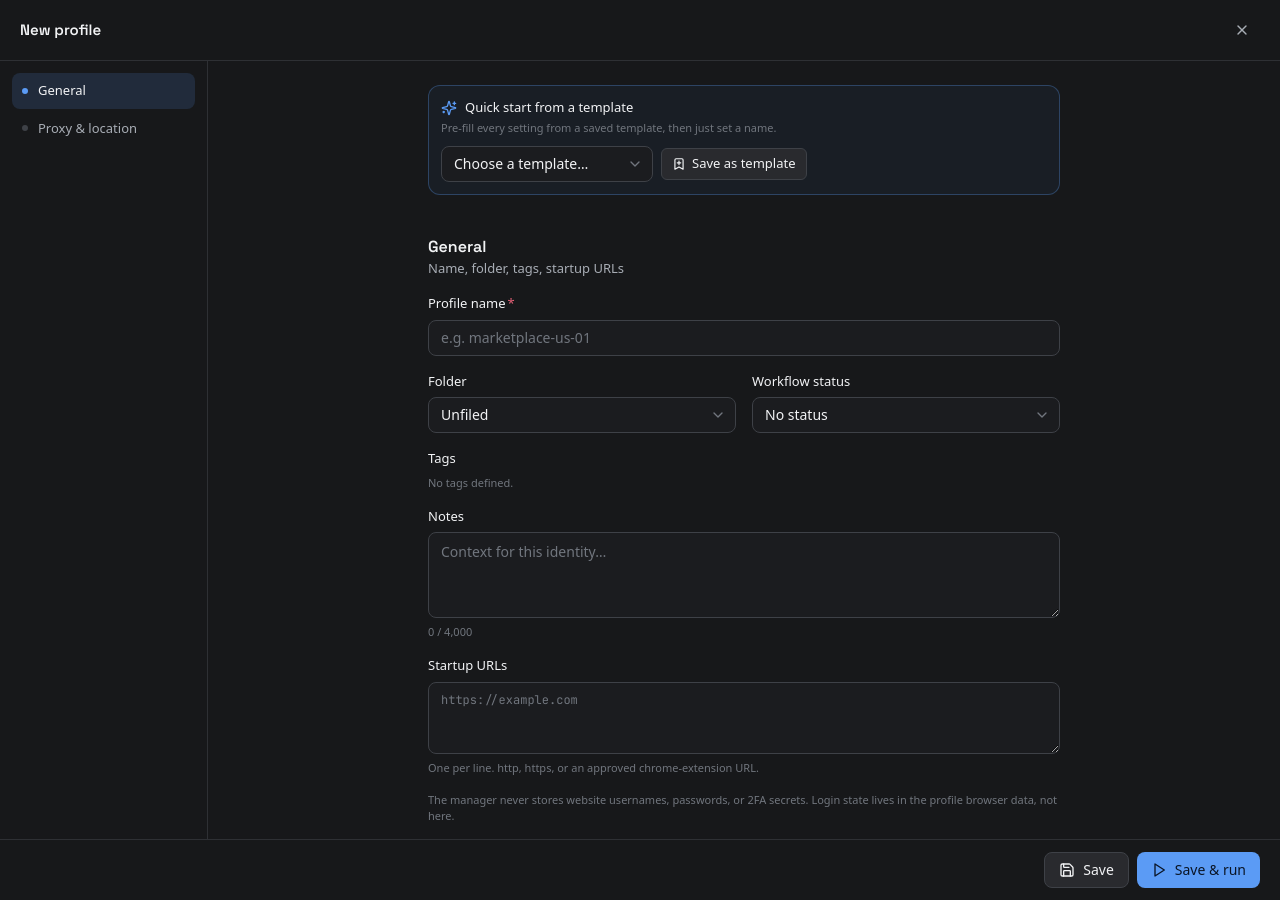
Test: ProfileWizardPage fingerprint coherence validation › does not let a delayed pre-save response overwrite validation for a newer draft
This screenshot has width=1280, height=900.
Type "Guarded" into the field with placeholder "e.g. marketplace-us-01".
click(744, 338); type("Guarded")  # box [428,320,1060,356]
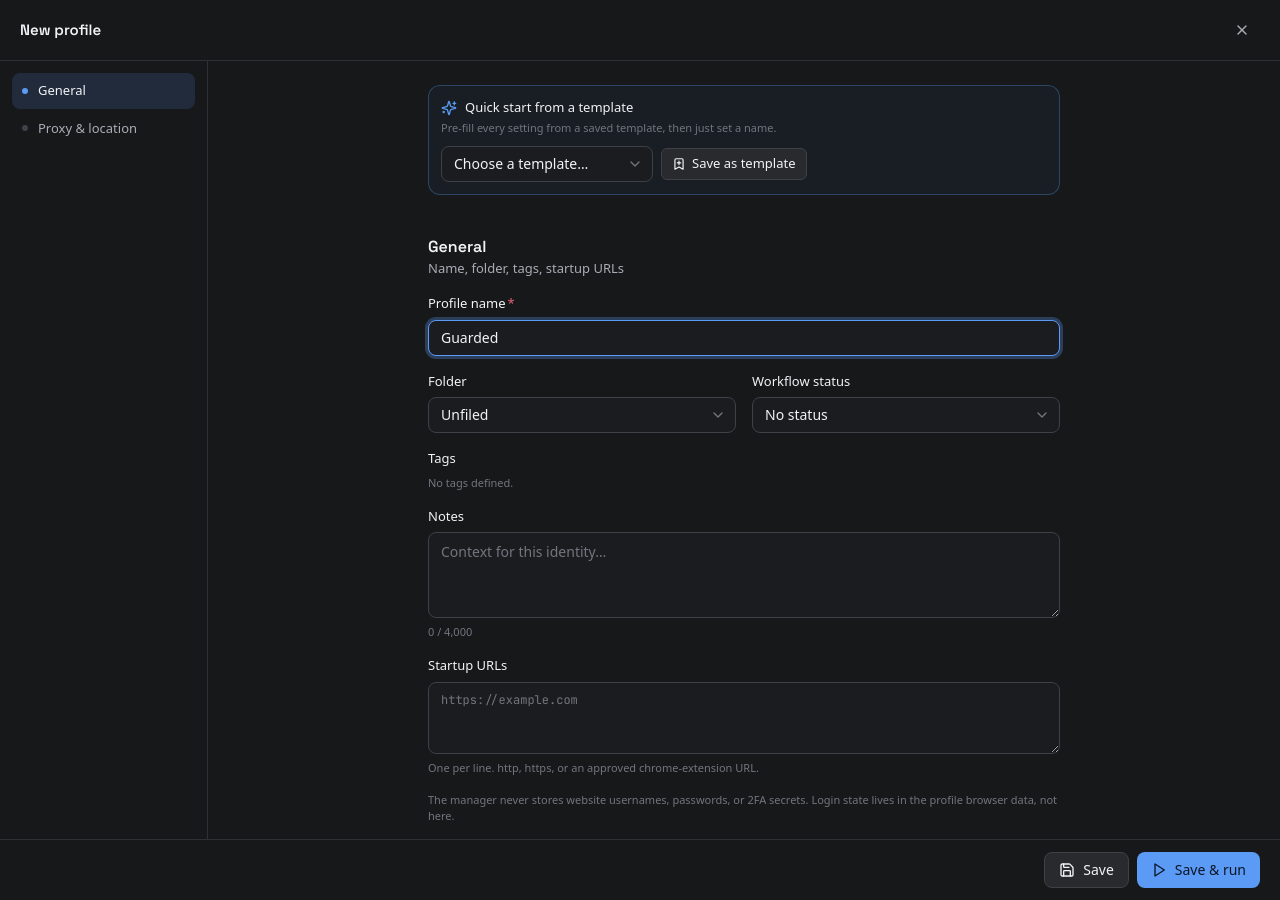
Click the button "Save".
click(1087, 870)  # box [1044,852,1129,888]
(page scrolled)
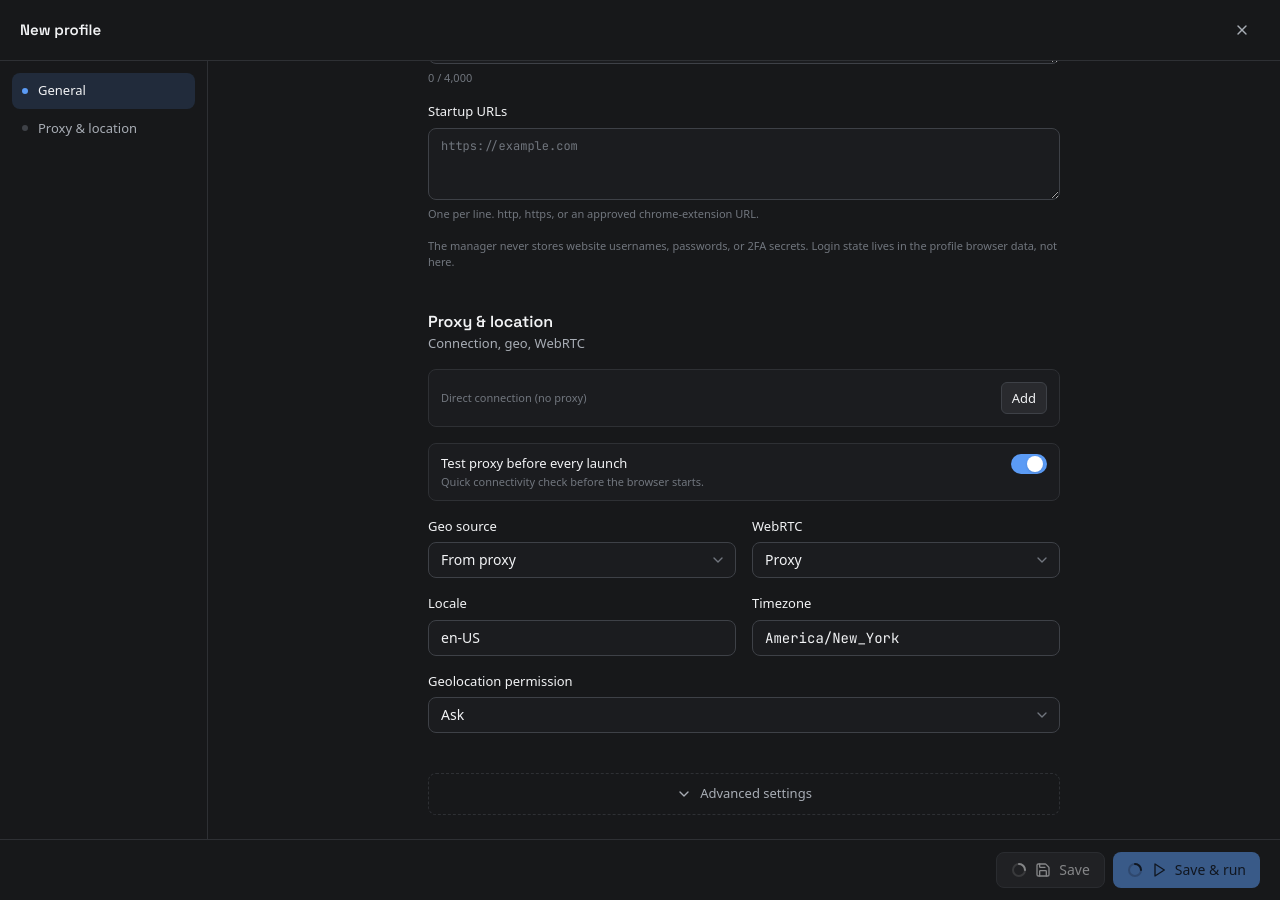
Click the button "Advanced settings".
click(744, 794)  # box [428,773,1060,815]
(page scrolled)
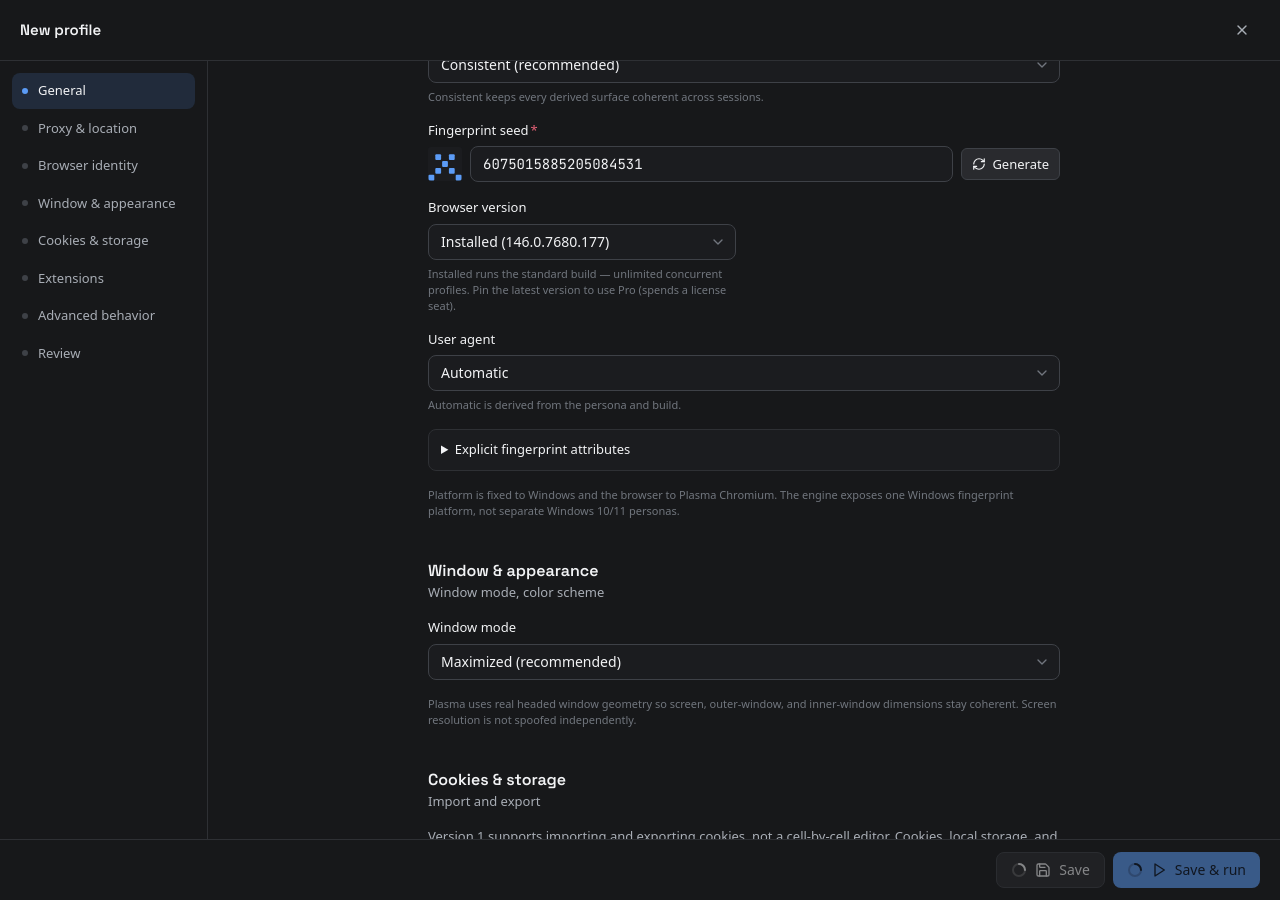
Click the heading "Explicit fingerprint attributes".
click(543, 449)  # box [455,440,630,458]
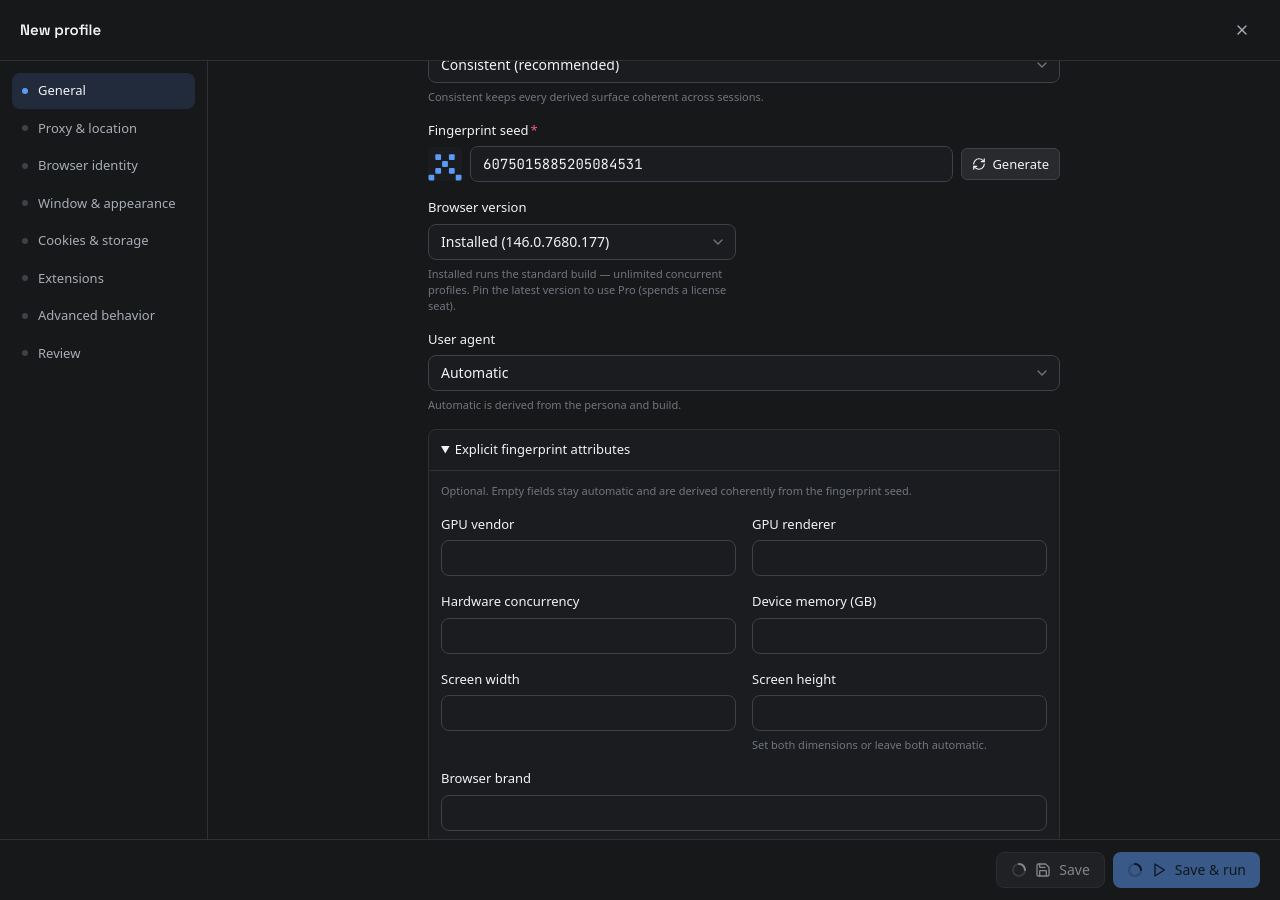
Type "Neutral Graphics" into the field labelled "GPU vendor".
click(588, 558); type("Neutral Graphics")  # box [441,540,736,576]
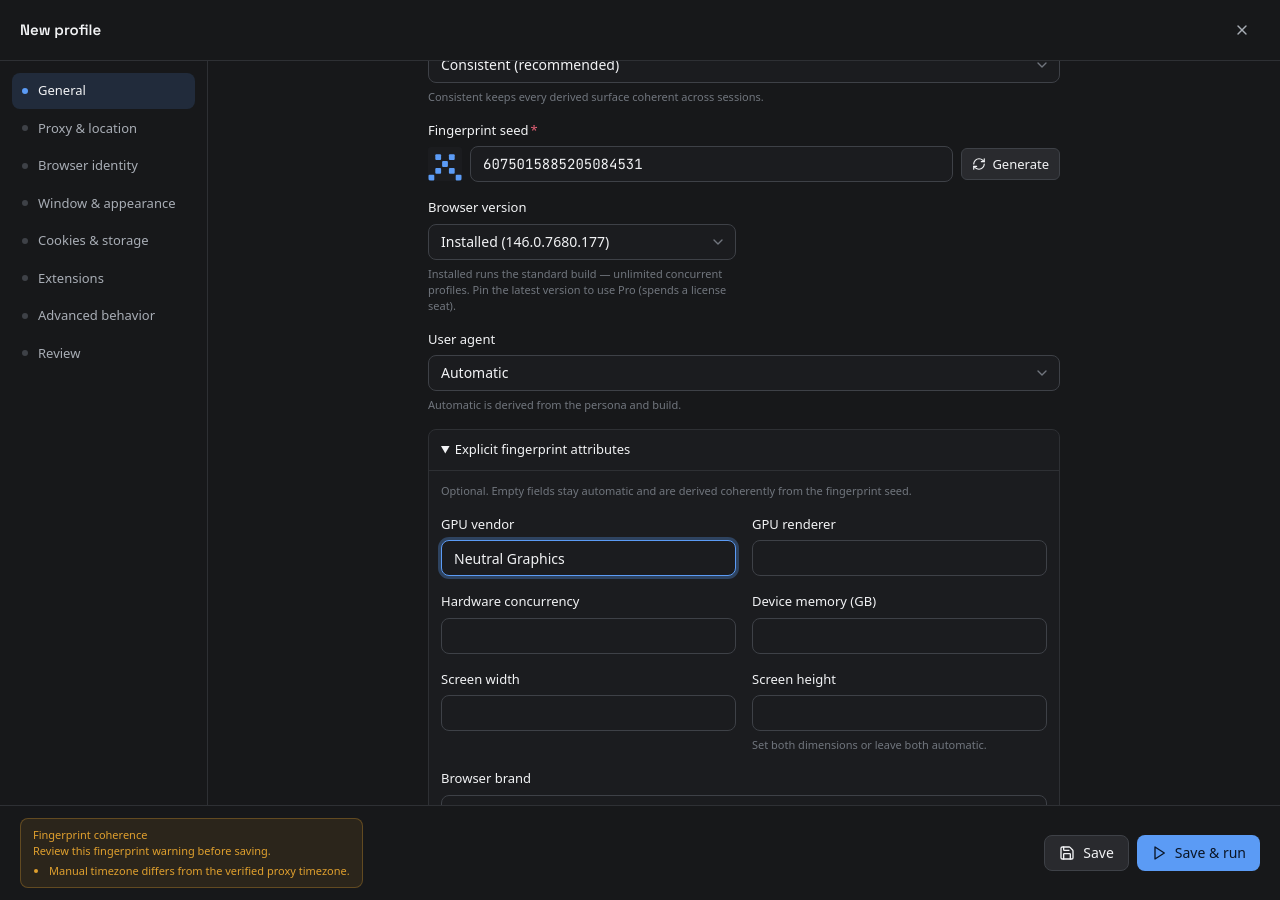
Expected: the message shows "Manual timezone differs from the verified proxy timezone.", [49,863,350,878]
